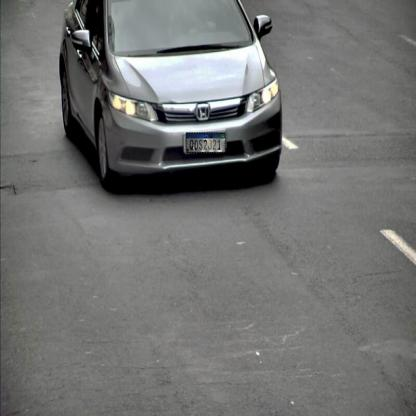PlacaM: (186, 132, 226, 154)
